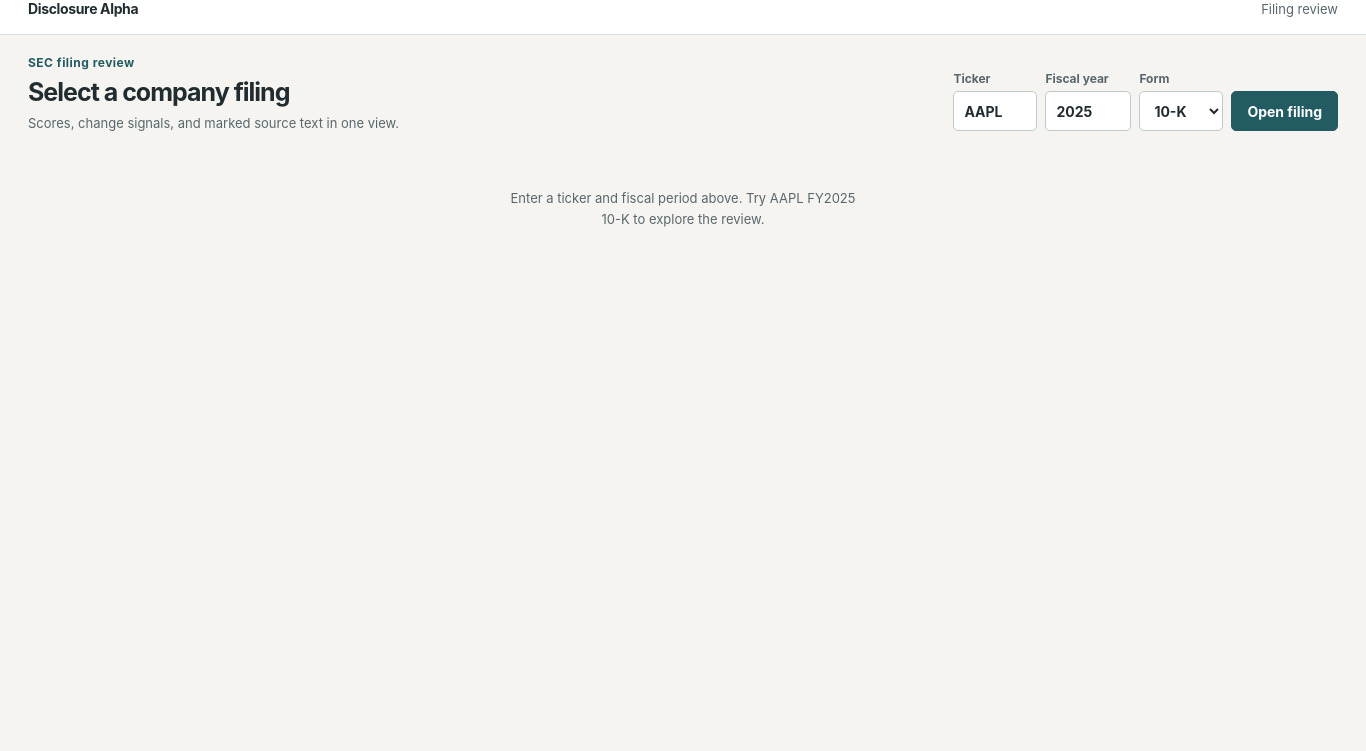
Test: filing review › selects evidence, switches section, and highlights the exact phrase
Click the button "Open filing" at [1285, 111], box left=1231, top=91, right=1338, bottom=131
(page scrolled)
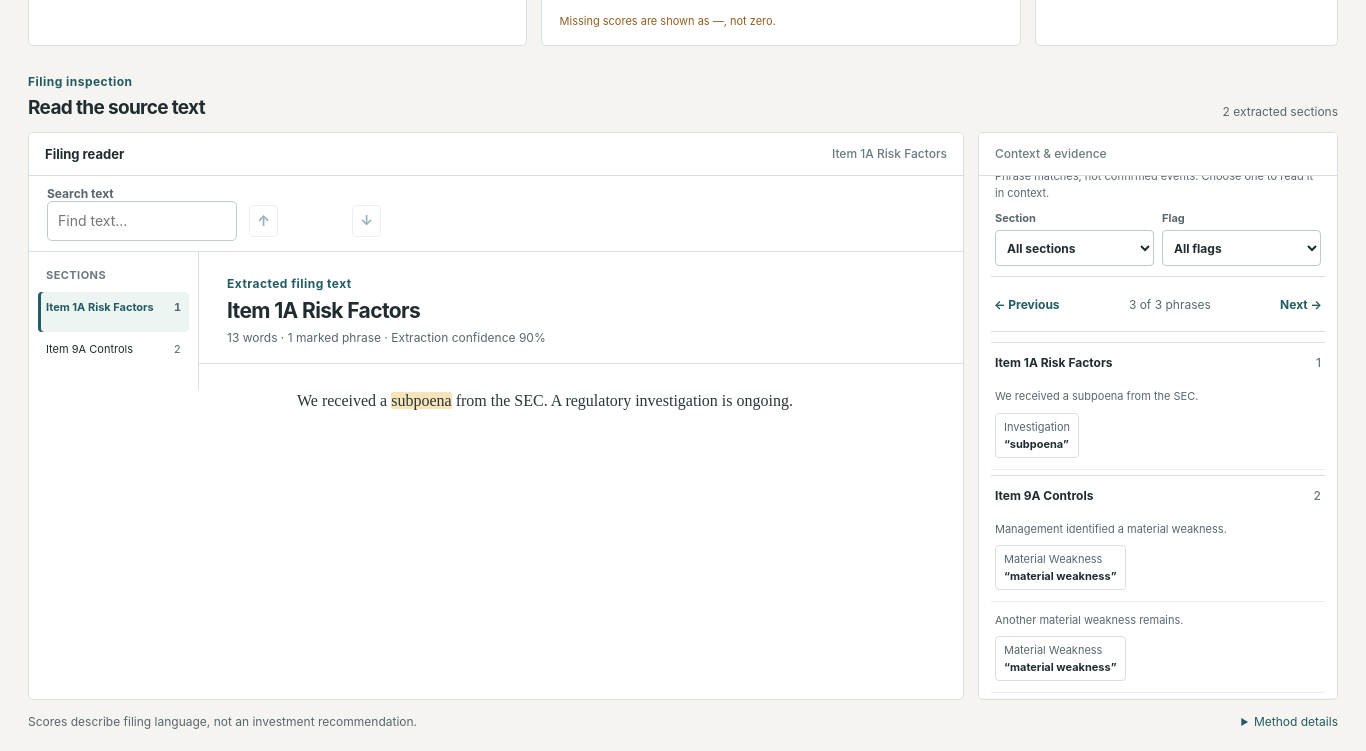
Check: the heading "Marked language" is shown, box left=995, top=144, right=1114, bottom=161
Click the button with aria-label "material weakness: material weakness" at [1060, 567], box left=995, top=545, right=1126, bottom=590
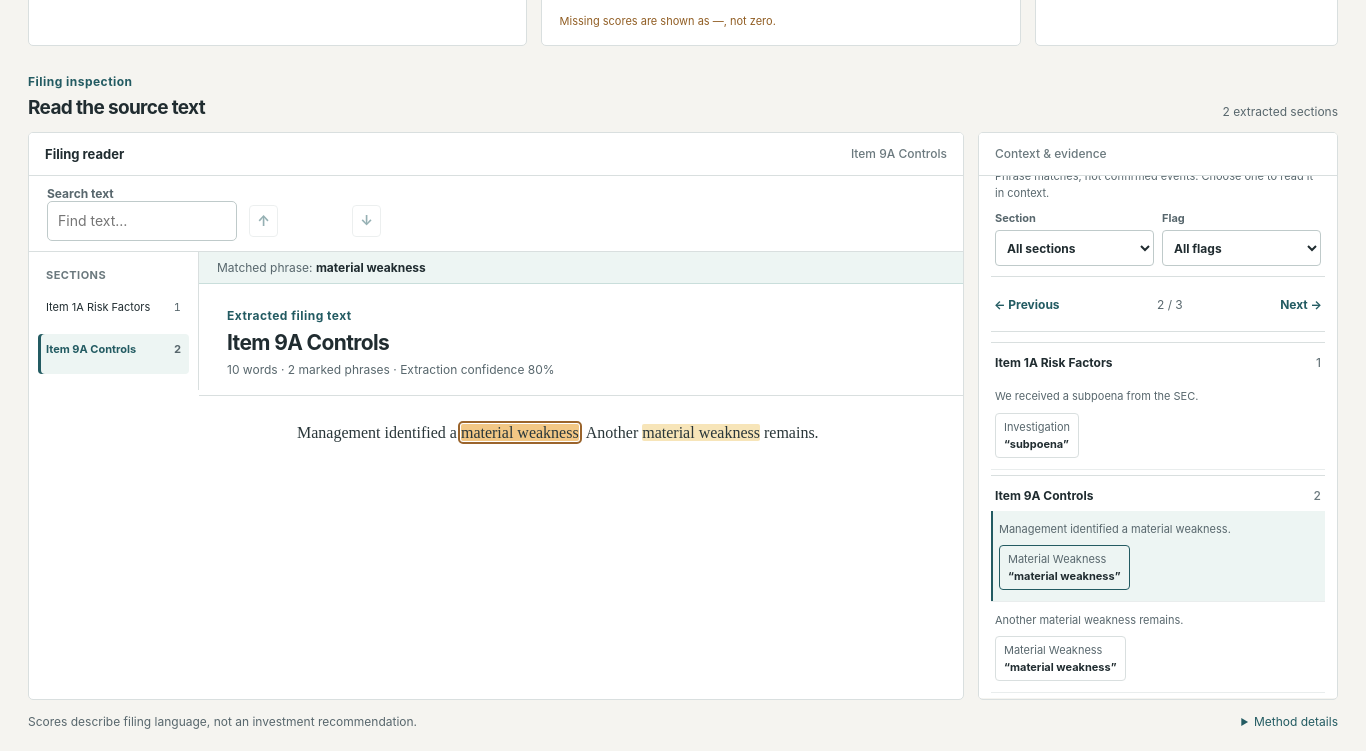
Check: the text "2 / 3" is shown, box left=1157, top=297, right=1183, bottom=312
Check: the heading "Item 9A Controls" is shown, box left=227, top=330, right=389, bottom=354
Check: the 2nd text "material weakness" is shown, box left=461, top=424, right=579, bottom=440
Click the button "Next →" at [1301, 304], box left=1277, top=284, right=1325, bottom=324
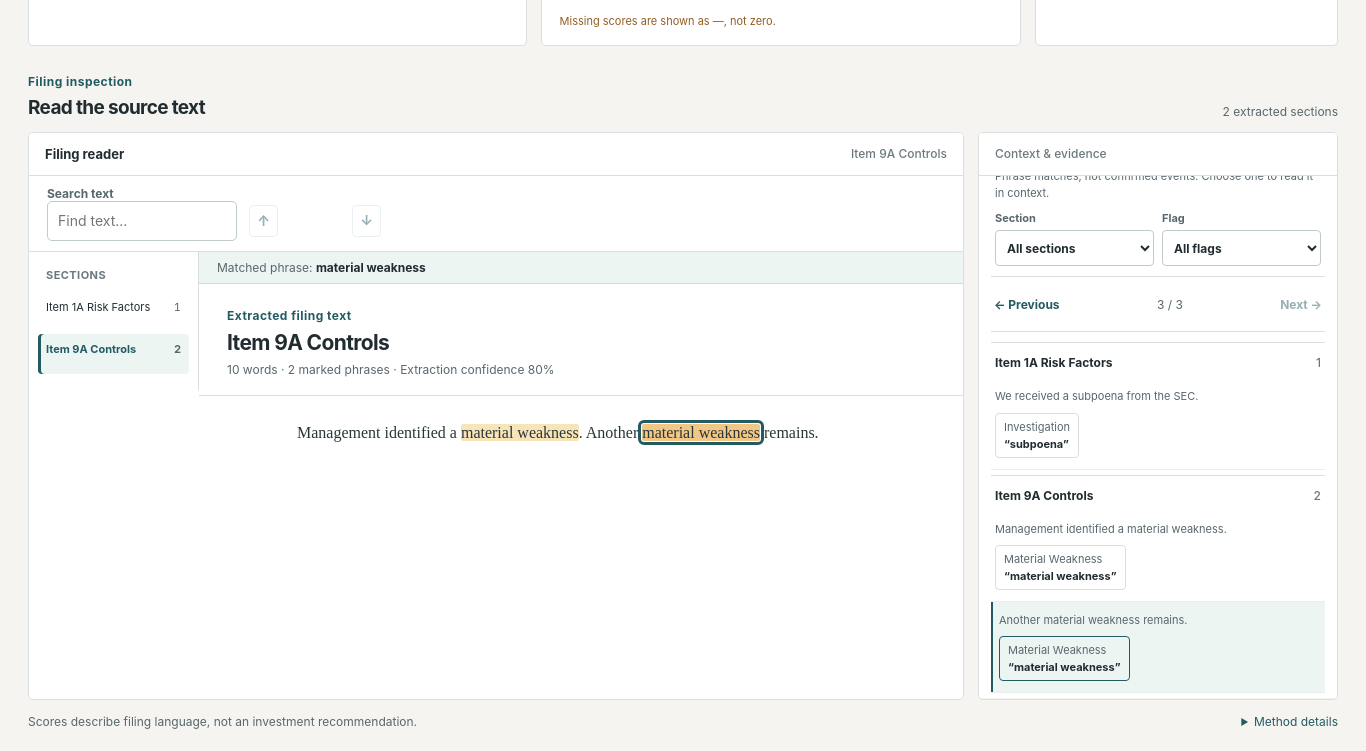
Check: the text "3 / 3" is shown, box left=1157, top=297, right=1183, bottom=312
